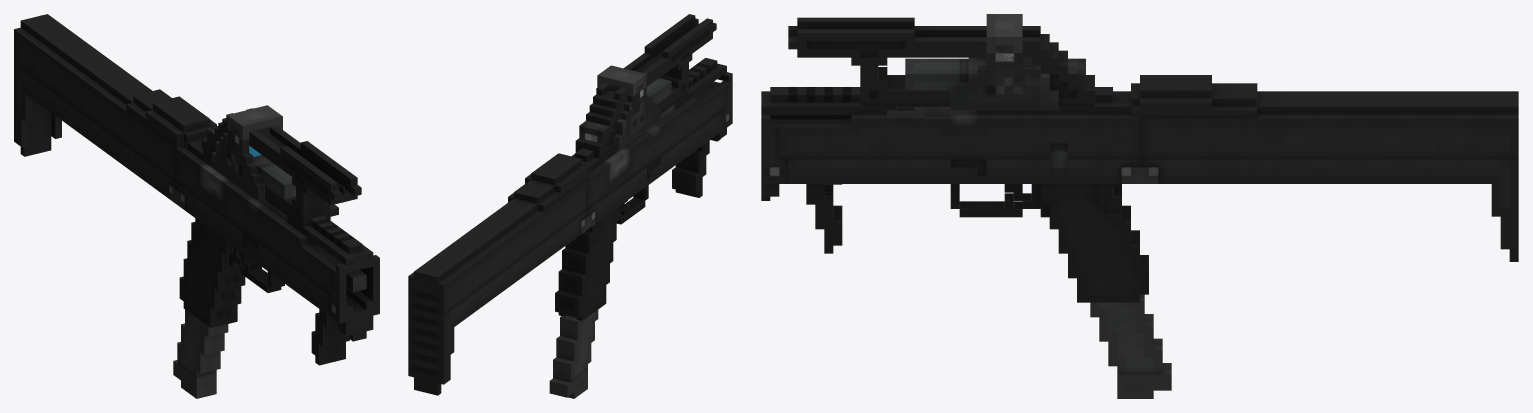
Rendered from RD_FMG9.glb.
3 views of the same model, side by side, from view 1: azimuth 30°, elevation 25°; view 2: azimuth 150°, elevation 25°; view 3: azimuth 270°, elevation 25° (orthographic). The views are drawn at different scales.
Parts seen in each view (by area): view 1: FMG9, FMG9_SCOPE, FMG9_CLIP, SCOPE_EOTECH, SCOPE_HOLOSUN; view 2: FMG9, FMG9_SCOPE, FMG9_CLIP, SCOPE_HOLOSUN, SCOPE_EOTECH, SCOPE_AIMPOINT; view 3: FMG9, FMG9_SCOPE, SCOPE_EOTECH, FMG9_CLIP, SCOPE_HOLOSUN, FMG9_BOLT.
Boxes of the visible parts, x1,y1,x2,y2 form: FMG9: (14,14,379,365); FMG9_SCOPE: (203,108,361,227); FMG9_CLIP: (173,309,228,398); SCOPE_EOTECH: (219,127,295,200); SCOPE_HOLOSUN: (211,105,282,171); FMG9: (408,58,732,395); FMG9_SCOPE: (575,14,716,158); FMG9_CLIP: (549,310,598,398); SCOPE_HOLOSUN: (597,65,646,150); SCOPE_EOTECH: (620,78,671,136); SCOPE_AIMPOINT: (579,84,639,143); FMG9: (761,75,1518,302); FMG9_SCOPE: (788,17,1094,106); SCOPE_EOTECH: (905,53,1040,110); FMG9_CLIP: (1090,294,1171,398); SCOPE_HOLOSUN: (986,14,1058,110); FMG9_BOLT: (887,106,923,126).
Bounding box in the file's own units: 0.0787 × 0.4428 × 0.8266.
Materials: 7 (7 with a texture image).
